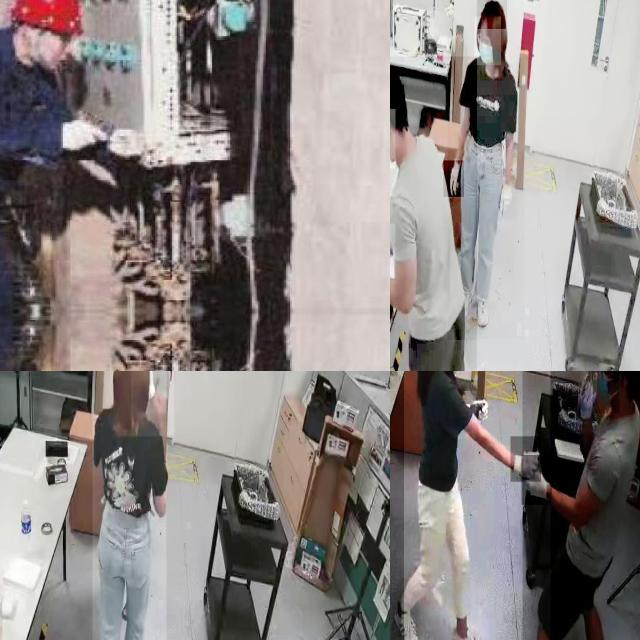face_mask: (475, 16, 501, 66), (592, 371, 619, 413)
face_nomask: (39, 28, 74, 69)
hand_glove: (59, 118, 110, 155), (522, 455, 552, 505), (511, 436, 541, 482), (497, 179, 517, 221), (444, 160, 464, 197)
head_helmet: (11, 0, 88, 37)
head_nohelmet: (476, 0, 507, 30), (390, 56, 404, 105)
person: (403, 371, 550, 640), (0, 0, 92, 371), (522, 371, 640, 640), (390, 56, 477, 371), (447, 0, 524, 340), (92, 371, 167, 640), (131, 371, 174, 436)
shoes: (392, 592, 427, 640), (444, 614, 488, 640), (474, 280, 491, 333)
